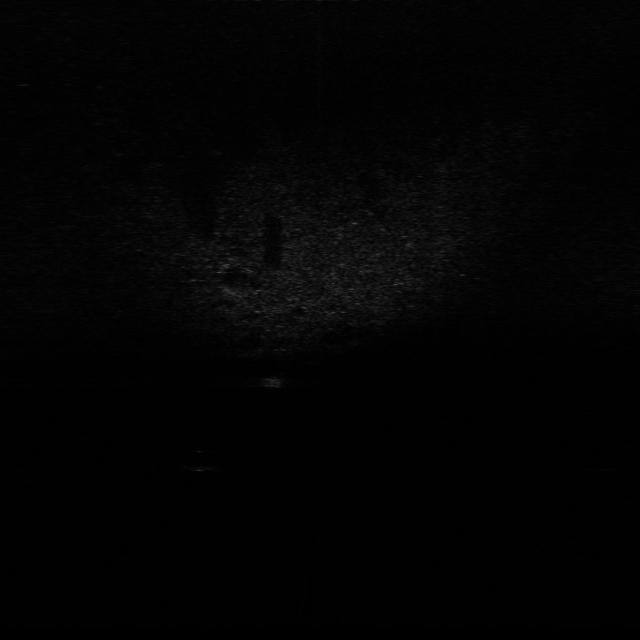ball: (184, 446, 217, 474)
cube: (259, 371, 287, 391)
